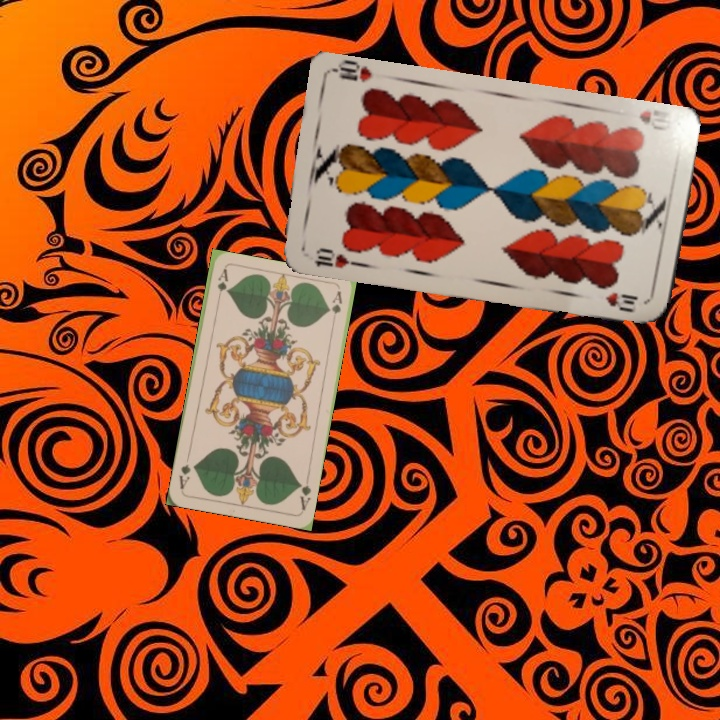GA: (295, 472, 314, 513), (213, 266, 230, 306)
H10: (309, 243, 362, 271), (635, 106, 675, 133)
